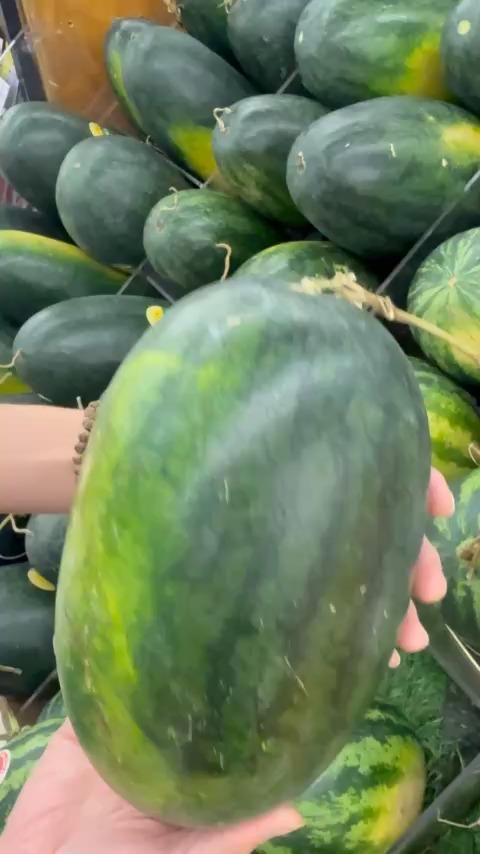watermelon: (50, 284, 434, 827), (293, 97, 476, 241), (297, 9, 450, 101), (60, 129, 144, 268), (108, 17, 227, 109), (210, 95, 293, 225), (145, 174, 241, 281), (18, 294, 115, 397), (7, 94, 57, 223)
